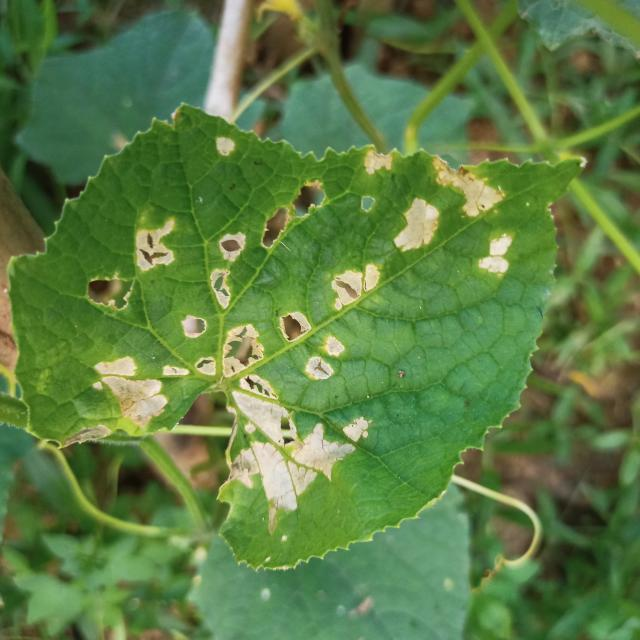disease_cucumber: (78, 214, 378, 525), (254, 137, 528, 310), (212, 133, 239, 161)
